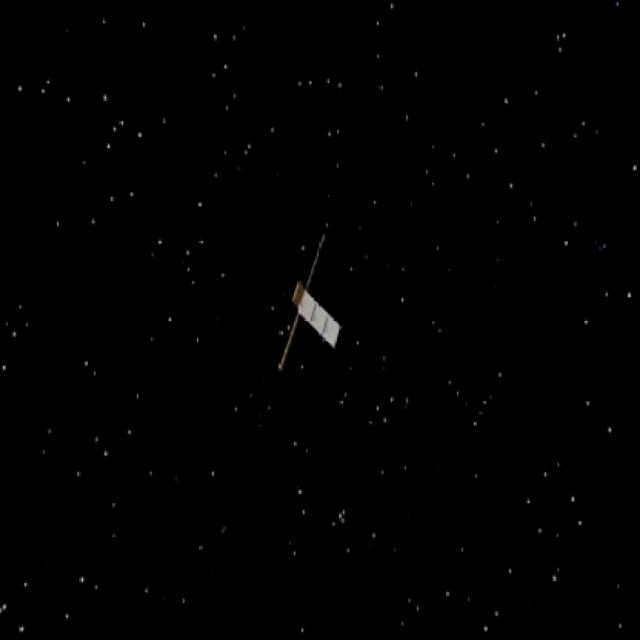medium_debris: (268, 221, 349, 381)
